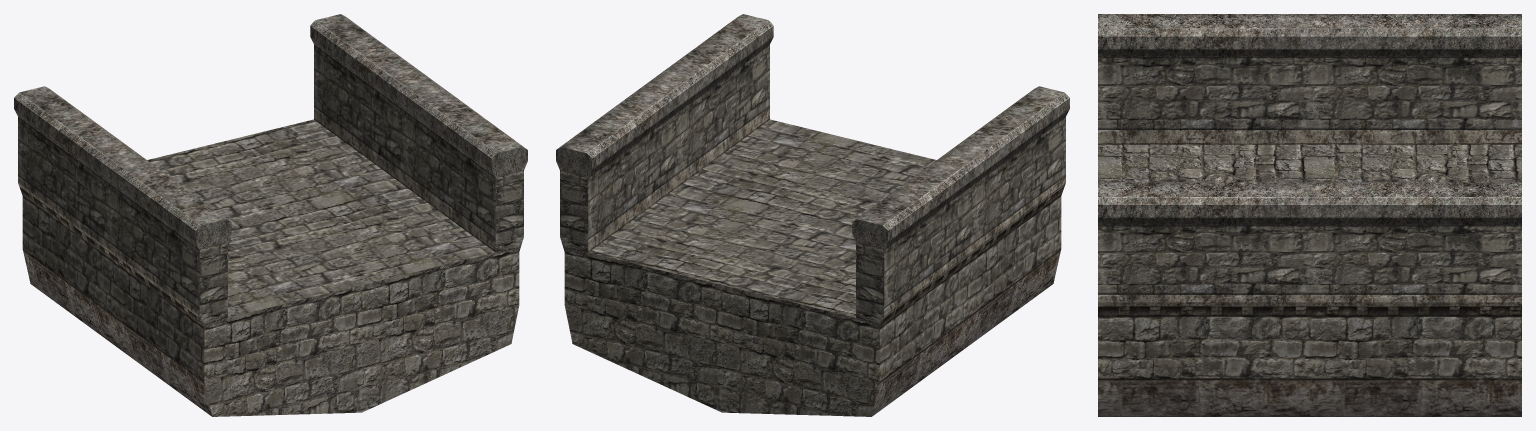
File: StoneBridgeFloating.dae
The picture shows the model from 3 angles, left to right: view 1: azimuth 30°, elevation 25°; view 2: azimuth 150°, elevation 25°; view 3: azimuth 270°, elevation 25°; orthographic projection. The views are drawn at different scales.
Parts seen in each view (by area): view 1: BridgeFloating, BridgeFloatingW; view 2: BridgeFloating, BridgeFloatingW; view 3: BridgeFloatingW, BridgeFloating.
Part boxes in pixels (x1,y1,x2,y2): BridgeFloating: (22, 119, 519, 416); BridgeFloatingW: (14, 14, 527, 416); BridgeFloating: (564, 119, 1061, 416); BridgeFloatingW: (556, 14, 1069, 416); BridgeFloatingW: (1098, 14, 1521, 416); BridgeFloating: (1098, 144, 1521, 378).
Size of the model in its own units: 4.22 by 2.75 by 4.
Materials: 2 (2 with a texture image).
